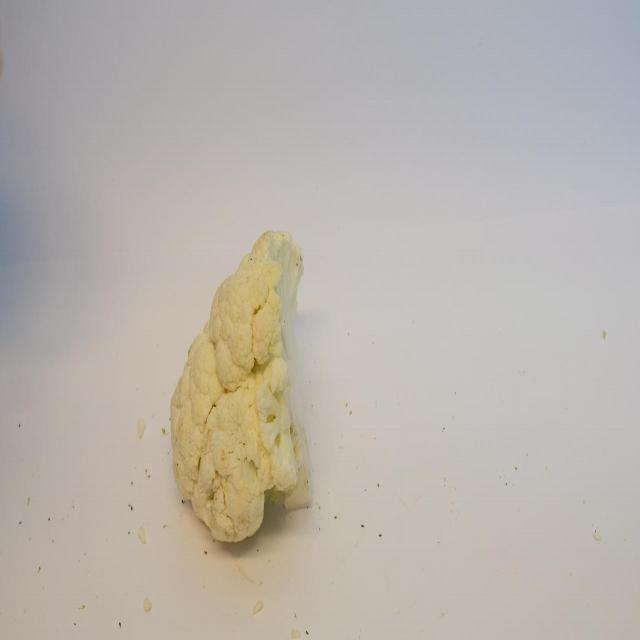cauliflower: (167, 219, 319, 540)
